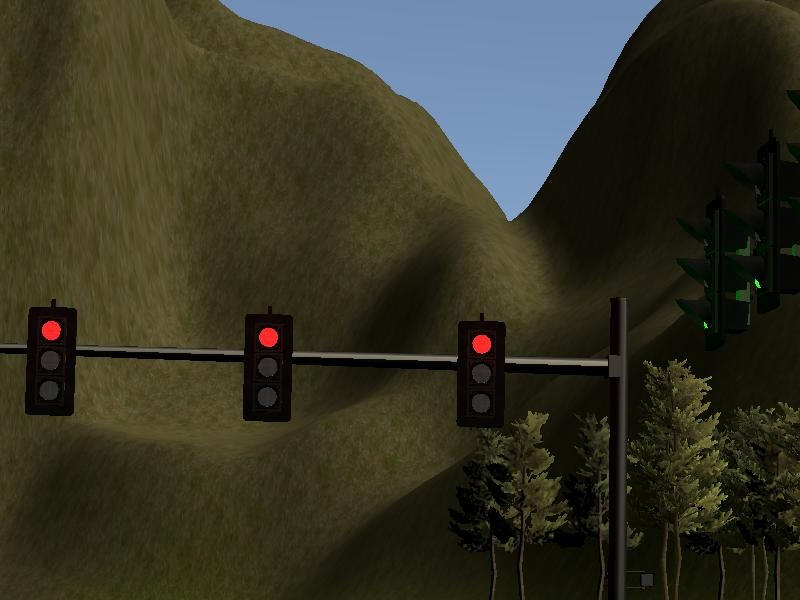RED: (243, 311, 291, 421), (457, 319, 505, 429), (27, 306, 75, 416)
